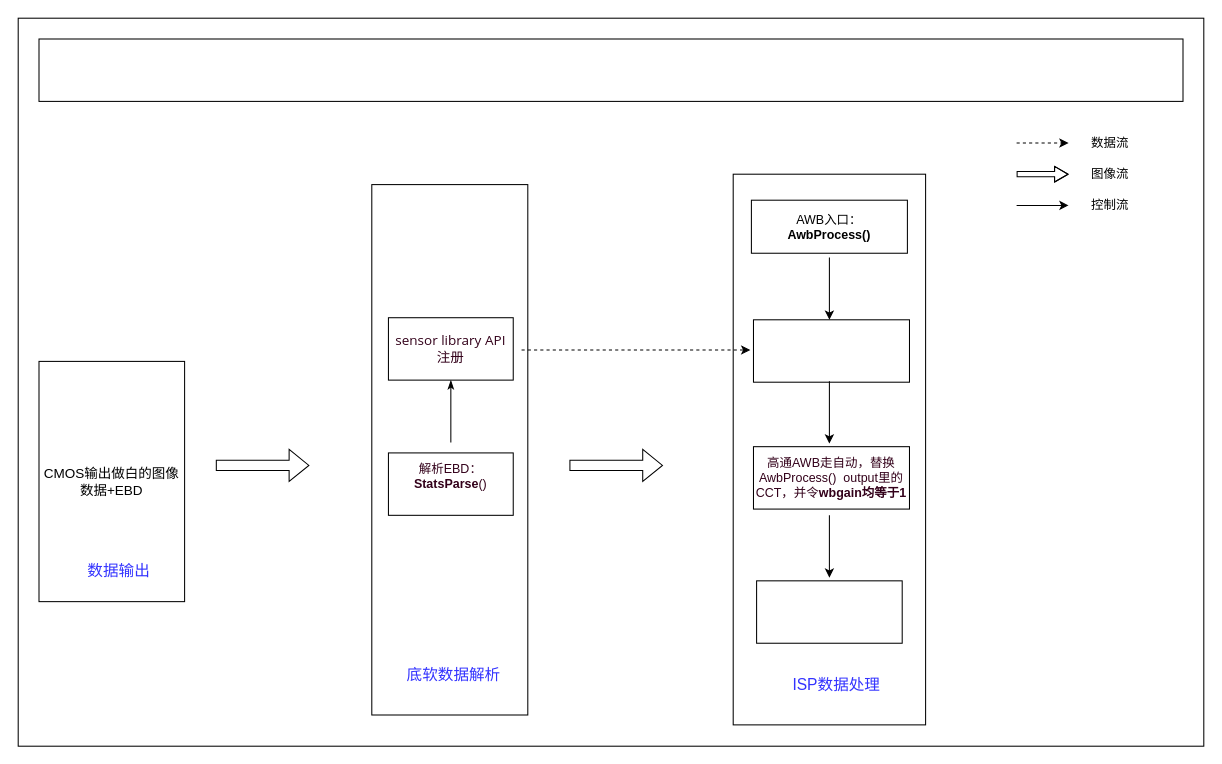
The diagram is 1222 pixels wide and 764 high, and some of its shapes have lost their labels. The centre of each missing label's shape, as x and y in pixels:
ISP相关模块从AWB模块获取CCT: pixel 829 611
从RDI解析EBD里的CCT: pixel 830 350
方案2-snesor做awb，将CCT传给高通ISP: pixel 610 69
